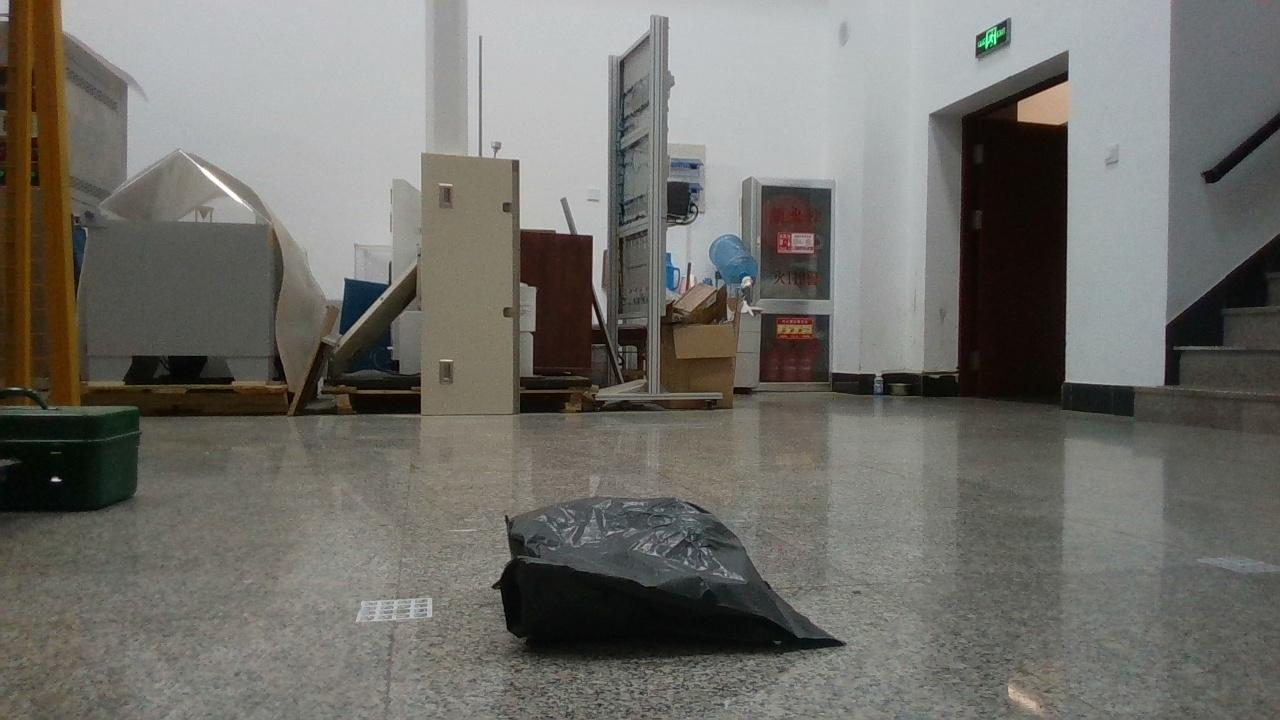package: (491, 498, 848, 646)
